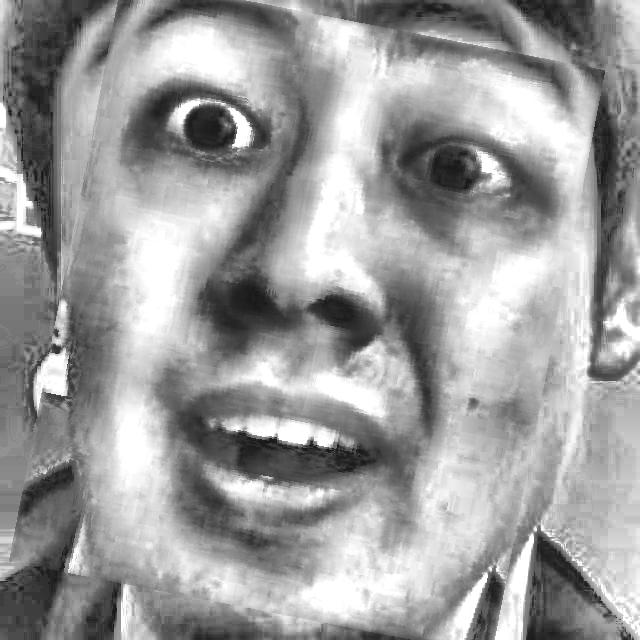angry: (34, 0, 579, 634)
